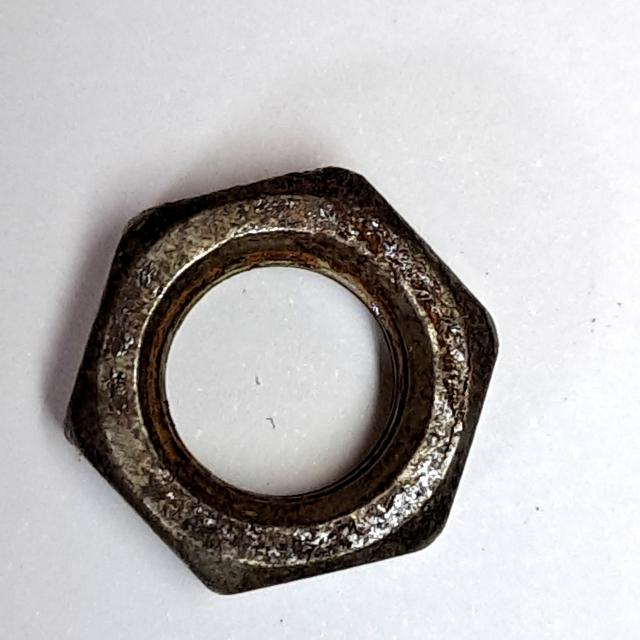Rust: (53, 154, 506, 604)
